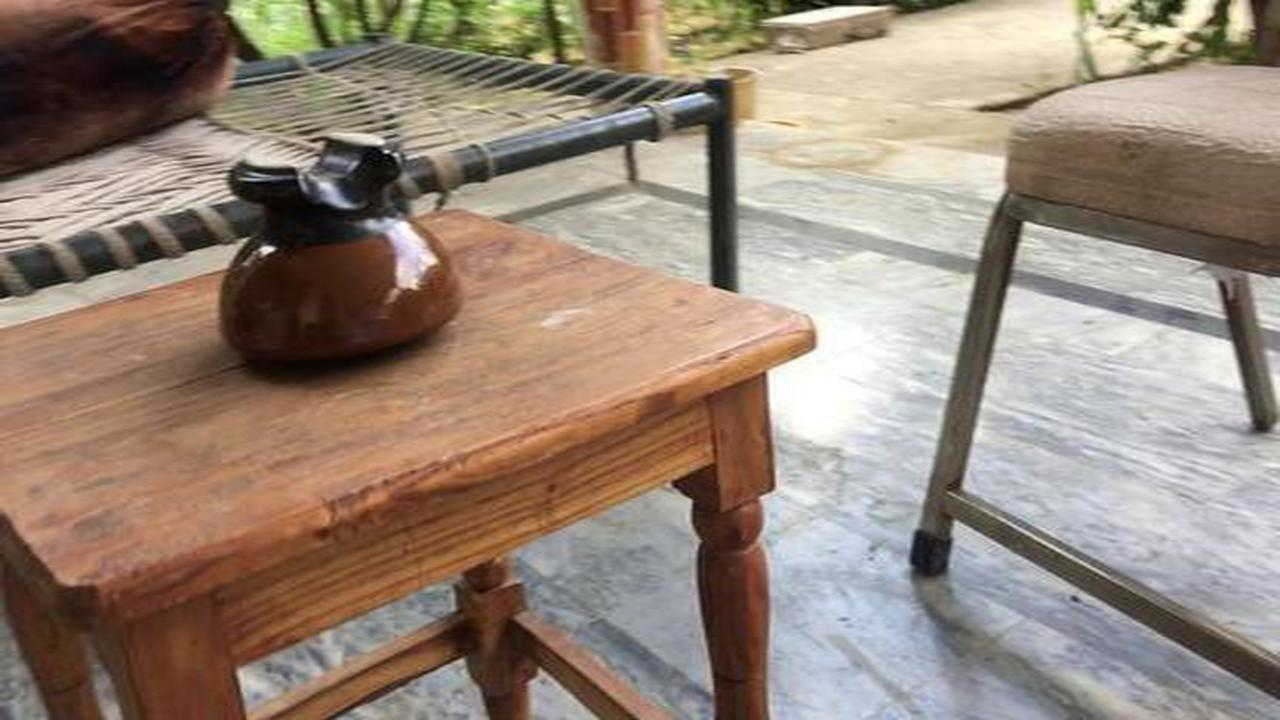insulator_pin: (176, 122, 481, 383)
